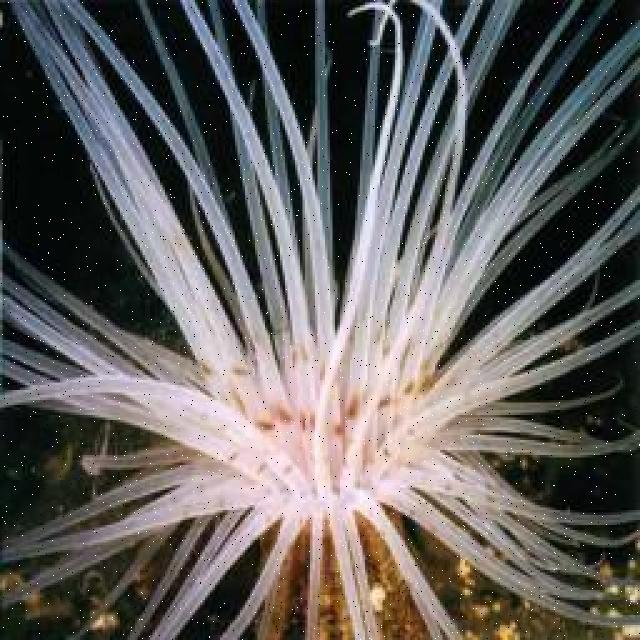reefs: (0, 0, 638, 638)
